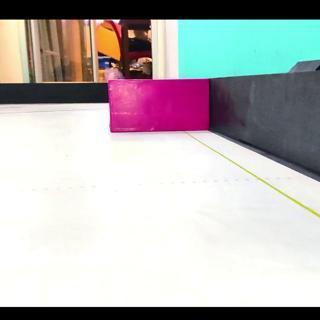xparking: (110, 80, 210, 132)
